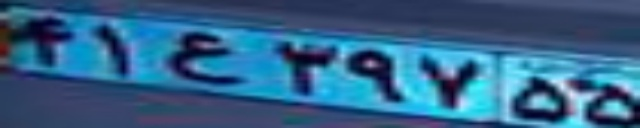1: (89, 21, 140, 77)
3: (272, 41, 338, 95)
4: (23, 15, 76, 69)
5: (504, 71, 571, 123), (580, 79, 636, 126)
7: (412, 54, 487, 110)
9: (341, 44, 404, 104)
ain: (161, 30, 246, 84)
